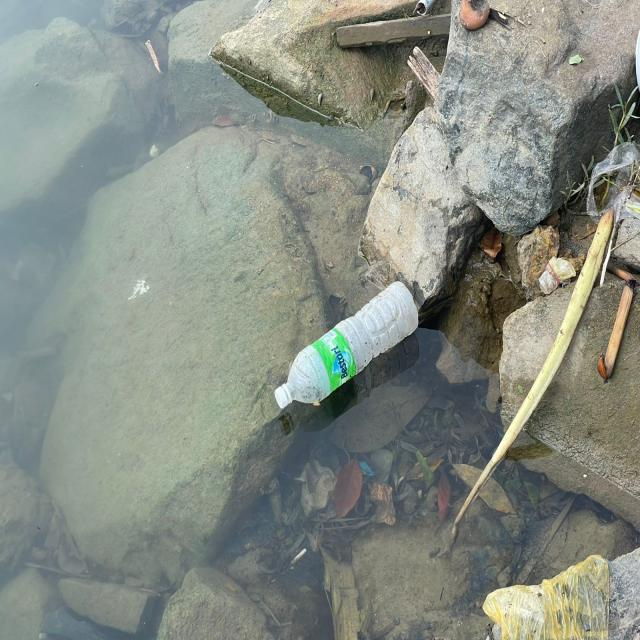Botol Plastik: (269, 279, 429, 428)
